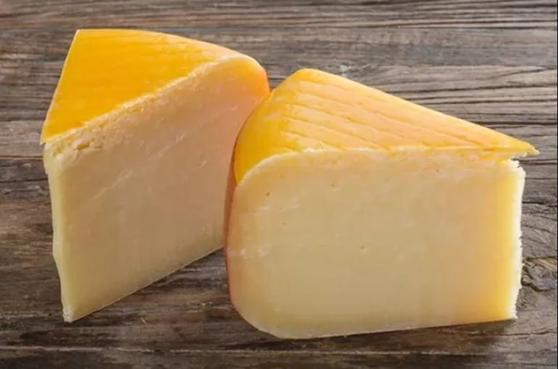cheese: (226, 60, 535, 341), (47, 24, 271, 338)
